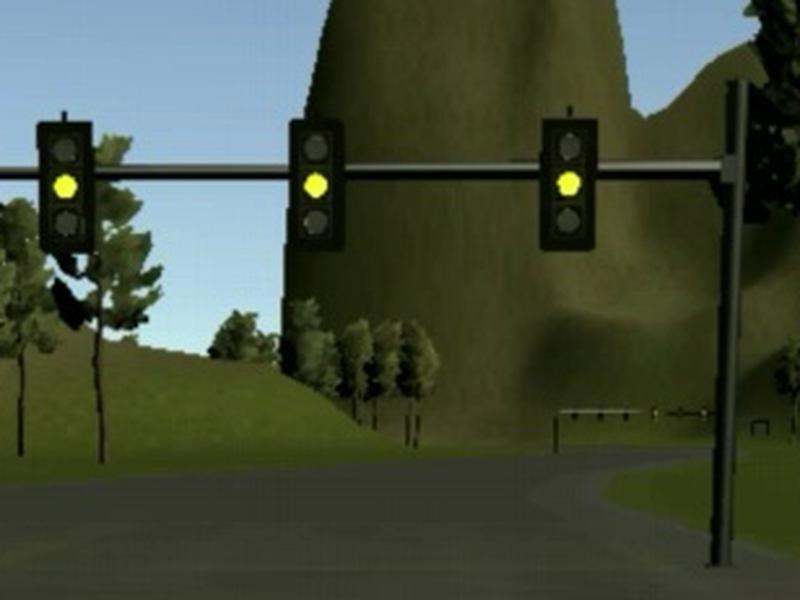Yellow: (537, 117, 599, 252), (287, 119, 347, 252), (36, 120, 95, 254)
